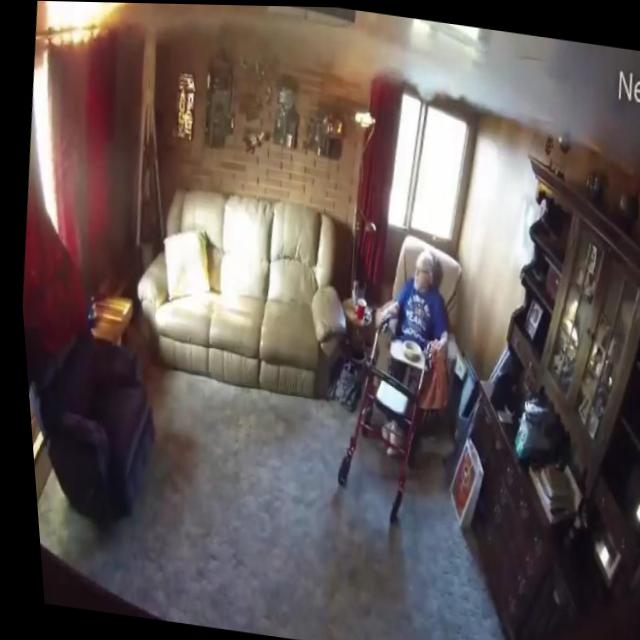fire: (40, 1, 137, 55)
